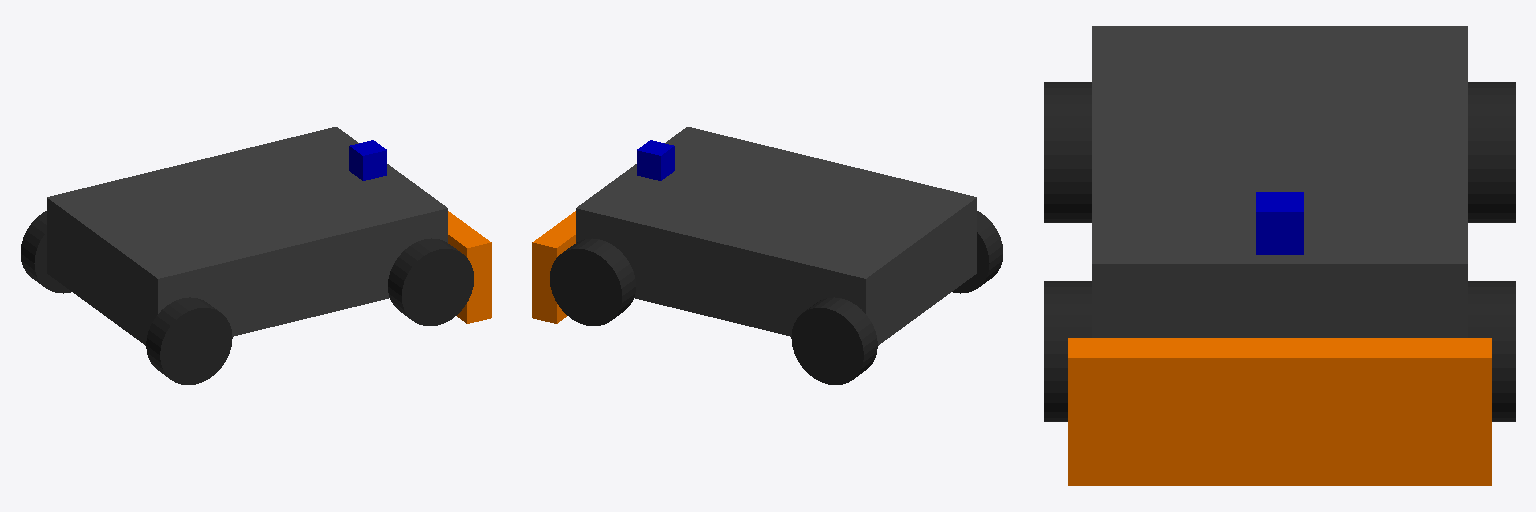
URDF robot description (tank_bot):
<?xml version="1.0"?>
<robot name="tank_bot">

  <!-- Robot Base -->
  <link name="base_link">
    <visual>
      <geometry>
        <box size="0.60 0.40 0.15"/>
      </geometry>
      <material name="DarkGrey">
        <color rgba="0.3 0.3 0.3 1.0"/>
      </material>
    </visual>
    <collision>
      <geometry>
        <box size="0.60 0.40 0.15"/>
      </geometry>
    </collision>
    <inertial>
      <origin xyz="0 0 0" rpy="0 0 0"/>      
      <mass value="15"/>
      <inertia ixx="0.3125" ixy="0.0" ixz="0.0" iyy="0.5208" iyz="0.0" izz="0.5833"/>
    </inertial>
  </link>
  
  <!-- Robot Footprint -->
  <link name="base_footprint">
    <inertial>
      <origin xyz="0 0 0" rpy="0 0 0"/>      
      <mass value="0.001"/>
      <inertia ixx="0.0000001" ixy="0.0" ixz="0.0" iyy="0.0000001" iyz="0.0" izz="0.0000001"/>
    </inertial>
  </link>

  <joint name="base_joint" type="fixed">
    <parent link="base_link"/>
    <child link="base_footprint"/>
    <origin xyz="0.0 0.0 -0.085" rpy="0 0 0"/>
  </joint>

  <!-- Track System - Left Side -->
  <!-- Front Left Wheel/Sprocket -->
  <link name="left_front_wheel_link">
    <visual>
      <origin xyz="0 0 0" rpy="1.5707 0 0"/>
      <geometry>
        <cylinder radius="0.075" length="0.05"/>
      </geometry>
      <material name="DarkGrey">
        <color rgba="0.2 0.2 0.2 1.0"/>
      </material>
    </visual>
    <collision>
      <origin xyz="0 0 0" rpy="1.5707 0 0"/>
      <geometry>
        <cylinder radius="0.075" length="0.05"/>
      </geometry>
    </collision>
    <inertial>
      <mass value="1.0"/>
      <inertia ixx="0.0021" ixy="0.0" ixz="0.0" iyy="0.0021" iyz="0.0" izz="0.0035"/>
    </inertial>
  </link>

  <joint name="left_front_wheel_joint" type="continuous">
    <parent link="base_link"/>
    <child link="left_front_wheel_link"/>
    <origin xyz="0.25 0.225 -0.05" rpy="0 0 0"/>
    <axis xyz="0 1 0"/>
  </joint>

  <!-- Rear Left Wheel/Idler -->
  <link name="left_rear_wheel_link">
    <visual>
      <origin xyz="0 0 0" rpy="1.5707 0 0"/>
      <geometry>
        <cylinder radius="0.075" length="0.05"/>
      </geometry>
      <material name="DarkGrey">
        <color rgba="0.2 0.2 0.2 1.0"/>
      </material>
    </visual>
    <collision>
      <origin xyz="0 0 0" rpy="1.5707 0 0"/>
      <geometry>
        <cylinder radius="0.075" length="0.05"/>
      </geometry>
    </collision>
    <inertial>
      <mass value="1.0"/>
      <inertia ixx="0.0021" ixy="0.0" ixz="0.0" iyy="0.0021" iyz="0.0" izz="0.0035"/>
    </inertial>
  </link>

  <joint name="left_rear_wheel_joint" type="continuous">
    <parent link="base_link"/>
    <child link="left_rear_wheel_link"/>
    <origin xyz="-0.25 0.225 -0.05" rpy="0 0 0"/>
    <axis xyz="0 1 0"/>
  </joint>

  <!-- Left Track -->
  <link name="left_track_link">
    <visual>
      <geometry>
        <mesh>
          <scale>0.6 0.1 0.15</scale>
          <uri>file://meshes/track.dae</uri>
        </mesh>
      </geometry>
      <material name="Black">
        <color rgba="0.1 0.1 0.1 1.0"/>
      </material>
    </visual>
    <collision>
      <geometry>
        <box size="0.60 0.10 0.15"/>
      </geometry>
    </collision>
    <inertial>
      <mass value="5.0"/>
      <inertia ixx="0.0104" ixy="0.0" ixz="0.0" iyy="0.1563" iyz="0.0" izz="0.1563"/>
    </inertial>
  </link>

  <joint name="left_track_joint" type="fixed">
    <parent link="base_link"/>
    <child link="left_track_link"/>
    <origin xyz="0 0.225 -0.05" rpy="0 0 0"/>
  </joint>

  <!-- Track System - Right Side -->
  <!-- Front Right Wheel/Sprocket -->
  <link name="right_front_wheel_link">
    <visual>
      <origin xyz="0 0 0" rpy="1.5707 0 0"/>
      <geometry>
        <cylinder radius="0.075" length="0.05"/>
      </geometry>
      <material name="DarkGrey">
        <color rgba="0.2 0.2 0.2 1.0"/>
      </material>
    </visual>
    <collision>
      <origin xyz="0 0 0" rpy="1.5707 0 0"/>
      <geometry>
        <cylinder radius="0.075" length="0.05"/>
      </geometry>
    </collision>
    <inertial>
      <mass value="1.0"/>
      <inertia ixx="0.0021" ixy="0.0" ixz="0.0" iyy="0.0021" iyz="0.0" izz="0.0035"/>
    </inertial>
  </link>

  <joint name="right_front_wheel_joint" type="continuous">
    <parent link="base_link"/>
    <child link="right_front_wheel_link"/>
    <origin xyz="0.25 -0.225 -0.05" rpy="0 0 0"/>
    <axis xyz="0 1 0"/>
  </joint>

  <!-- Rear Right Wheel/Idler -->
  <link name="right_rear_wheel_link">
    <visual>
      <origin xyz="0 0 0" rpy="1.5707 0 0"/>
      <geometry>
        <cylinder radius="0.075" length="0.05"/>
      </geometry>
      <material name="DarkGrey">
        <color rgba="0.2 0.2 0.2 1.0"/>
      </material>
    </visual>
    <collision>
      <origin xyz="0 0 0" rpy="1.5707 0 0"/>
      <geometry>
        <cylinder radius="0.075" length="0.05"/>
      </geometry>
    </collision>
    <inertial>
      <mass value="1.0"/>
      <inertia ixx="0.0021" ixy="0.0" ixz="0.0" iyy="0.0021" iyz="0.0" izz="0.0035"/>
    </inertial>
  </link>

  <joint name="right_rear_wheel_joint" type="continuous">
    <parent link="base_link"/>
    <child link="right_rear_wheel_link"/>
    <origin xyz="-0.25 -0.225 -0.05" rpy="0 0 0"/>
    <axis xyz="0 1 0"/>
  </joint>

  <!-- Right Track -->
  <link name="right_track_link">
    <visual>
      <geometry>
        <mesh>
          <scale>0.6 0.1 0.15</scale>
          <uri>file://meshes/track.dae</uri>
        </mesh>
      </geometry>
      <material name="Black">
        <color rgba="0.1 0.1 0.1 1.0"/>
      </material>
    </visual>
    <collision>
      <geometry>
        <box size="0.60 0.10 0.15"/>
      </geometry>
    </collision>
    <inertial>
      <mass value="5.0"/>
      <inertia ixx="0.0104" ixy="0.0" ixz="0.0" iyy="0.1563" iyz="0.0" izz="0.1563"/>
    </inertial>
  </link>

  <joint name="right_track_joint" type="fixed">
    <parent link="base_link"/>
    <child link="right_track_link"/>
    <origin xyz="0 -0.225 -0.05" rpy="0 0 0"/>
  </joint>

  <!-- Depth Camera -->
  <link name="camera_link">
    <visual>
      <origin xyz="0 0 0" rpy="0 0 0"/>
      <geometry>
        <box size="0.05 0.05 0.05"/>
      </geometry>
      <material name="Blue">
        <color rgba="0.0 0.0 0.8 1.0"/>
      </material>
    </visual>
    <collision>
      <origin xyz="0 0 0" rpy="0 0 0"/>
      <geometry>
        <box size="0.05 0.05 0.05"/>
      </geometry>
    </collision>
    <inertial>
      <mass value="0.1"/>
      <inertia ixx="0.000042" ixy="0.0" ixz="0.0" iyy="0.000042" iyz="0.0" izz="0.000042"/>
    </inertial>
  </link>

  <joint name="camera_joint" type="fixed">
    <parent link="base_link"/>
    <child link="camera_link"/>
    <origin xyz="0.25 0 0.1" rpy="0 0 0"/>
  </joint>

  <!-- Shovel -->
  <link name="shovel_link">
    <visual>
      <origin xyz="0.025 0 -0.075" rpy="0 0 0"/>
      <geometry>
        <box size="0.05 0.45 0.15"/>
      </geometry>
      <material name="Orange">
        <color rgba="1.0 0.5 0.0 1.0"/>
      </material>
    </visual>
    <collision>
      <origin xyz="0.025 0 -0.075" rpy="0 0 0"/>
      <geometry>
        <box size="0.05 0.45 0.15"/>
      </geometry>
    </collision>
    <inertial>
      <mass value="2.0"/>
      <inertia ixx="0.0104" ixy="0.0" ixz="0.0" iyy="0.0021" iyz="0.0" izz="0.0104"/>
    </inertial>
  </link>

  <joint name="shovel_joint" type="prismatic">
    <parent link="base_link"/>
    <child link="shovel_link"/>
    <origin xyz="0.325 0 0" rpy="0 0 0"/>
    <axis xyz="1 0 0"/>
    <limit lower="0" upper="0.3" effort="100" velocity="0.1"/>
  </joint>

  <!-- Gazebo plugins for simulation -->
  <gazebo>
    <plugin name="gazebo_ros_control" filename="libgazebo_ros_control.so">
      <robotNamespace>/tank_bot</robotNamespace>
      <robotSimType>gazebo_ros_control/DefaultRobotHWSim</robotSimType>
    </plugin>
  </gazebo>
  
  <!-- Track controllers for differential drive -->
  <gazebo>
    <plugin name="differential_drive_controller" filename="libgazebo_ros_diff_drive.so">
      <updateRate>50</updateRate>
      <leftJoint>left_track_joint</leftJoint>
      <rightJoint>right_track_joint</rightJoint>
      <wheelSeparation>0.45</wheelSeparation>
      <wheelDiameter>0.15</wheelDiameter>
      <wheelAcceleration>1.0</wheelAcceleration>
      <wheelTorque>50</wheelTorque>
      <commandTopic>cmd_vel</commandTopic>
      <odometryTopic>odom</odometryTopic>
      <odometryFrame>odom</odometryFrame>
      <robotBaseFrame>base_link</robotBaseFrame>
      <publishWheelTF>false</publishWheelTF>
      <publishOdomTF>true</publishOdomTF>
      <publishWheelJointState>false</publishWheelJointState>
      <legacyMode>false</legacyMode>
      <odometrySource>world</odometrySource>
      <publishTf>true</publishTf>
    </plugin>
  </gazebo>

  <!-- Depth camera plugin -->
  <gazebo reference="camera_link">
    <sensor type="depth" name="camera">
      <update_rate>30.0</update_rate>
      <camera name="head">
        <horizontal_fov>1.3962634</horizontal_fov>
        <image>
          <width>640</width>
          <height>480</height>
          <format>R8G8B8</format>
        </image>
        <clip>
          <near>0.02</near>
          <far>300</far>
        </clip>
        <noise>
          <type>gaussian</type>
          <mean>0.0</mean>
          <stddev>0.007</stddev>
        </noise>
      </camera>
      <plugin name="camera_controller" filename="libgazebo_ros_openni_kinect.so">
        <baseline>0.2</baseline>
        <alwaysOn>true</alwaysOn>
        <updateRate>0.0</updateRate>
        <cameraName>camera</cameraName>
        <imageTopicName>rgb/image_raw</imageTopicName>
        <cameraInfoTopicName>rgb/camera_info</cameraInfoTopicName>
        <depthImageTopicName>depth/image_raw</depthImageTopicName>
        <depthImageInfoTopicName>depth/camera_info</depthImageInfoTopicName>
        <pointCloudTopicName>depth/points</pointCloudTopicName>
        <frameName>camera_link</frameName>
        <pointCloudCutoff>0.5</pointCloudCutoff>
        <pointCloudCutoffMax>3.0</pointCloudCutoffMax>
        <distortionK1>0.00000001</distortionK1>
        <distortionK2>0.00000001</distortionK2>
        <distortionK3>0.00000001</distortionK3>
        <distortionT1>0.00000001</distortionT1>
        <distortionT2>0.00000001</distortionT2>
      </plugin>
    </sensor>
  </gazebo>

  <!-- Material properties for better visualization -->
  <gazebo reference="base_link">
    <material>Gazebo/DarkGrey</material>
  </gazebo>
  
  <gazebo reference="left_track_link">
    <material>Gazebo/Black</material>
    <mu1>1.0</mu1>
    <mu2>1.0</mu2>
    <kp>1000000.0</kp>
    <kd>100.0</kd>
    <minDepth>0.001</minDepth>
    <maxVel>1.0</maxVel>
    <fdir1>1 0 0</fdir1>
  </gazebo>
  
  <gazebo reference="right_track_link">
    <material>Gazebo/Black</material>
    <mu1>1.0</mu1>
    <mu2>1.0</mu2>
    <kp>1000000.0</kp>
    <kd>100.0</kd>
    <minDepth>0.001</minDepth>
    <maxVel>1.0</maxVel>
    <fdir1>1 0 0</fdir1>
  </gazebo>
</robot>

--- Facts derived from the render (not from the file) ---
Views: 3 orthographic renders of the robot side by side, from view 1: azimuth 30°, elevation 25°; view 2: azimuth 150°, elevation 25°; view 3: azimuth 270°, elevation 25°.
Model tank_bot with 10 links and 9 joints (4 continuous, 1 prismatic, 4 fixed), rooted at base_link, posed every joint at zero.
Visible links, largest first — view 1: base_link, right_front_wheel_link, right_rear_wheel_link, shovel_link, left_rear_wheel_link, camera_link; view 2: base_link, left_front_wheel_link, left_rear_wheel_link, shovel_link, right_rear_wheel_link, camera_link; view 3: base_link, shovel_link, left_rear_wheel_link, right_rear_wheel_link, left_front_wheel_link, right_front_wheel_link, camera_link.
Link boxes in pixels (x1,y1,x2,y2): base_link: (47,127,447,345); right_front_wheel_link: (388,238,473,325); right_rear_wheel_link: (146,297,232,384); shovel_link: (448,211,491,323); left_rear_wheel_link: (21,211,71,293); camera_link: (349,140,386,180); base_link: (576,127,976,345); left_front_wheel_link: (550,238,635,325); left_rear_wheel_link: (791,297,877,384); shovel_link: (532,211,575,323); right_rear_wheel_link: (952,211,1002,293); camera_link: (637,140,674,180); base_link: (1092,26,1467,337); shovel_link: (1068,338,1491,485); left_rear_wheel_link: (1468,82,1515,222); right_rear_wheel_link: (1044,82,1091,222); left_front_wheel_link: (1468,281,1515,421); right_front_wheel_link: (1044,281,1091,421); camera_link: (1256,192,1303,254).
Size in the robot's own frame: 0.7 by 0.5 by 0.275 metres.
Geometry: primitives only (box / cylinder / sphere), no mesh files.
